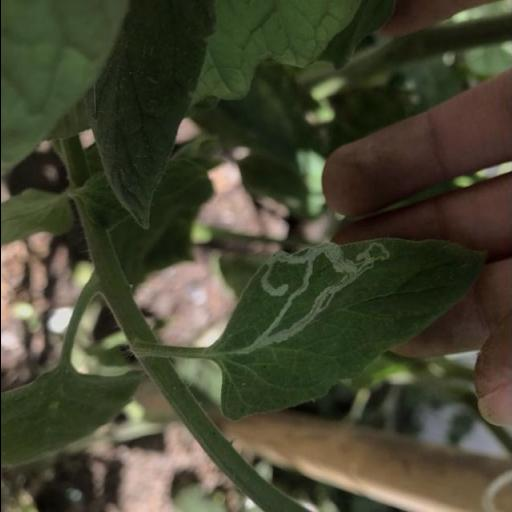Leaf Miner: (216, 234, 494, 422)
